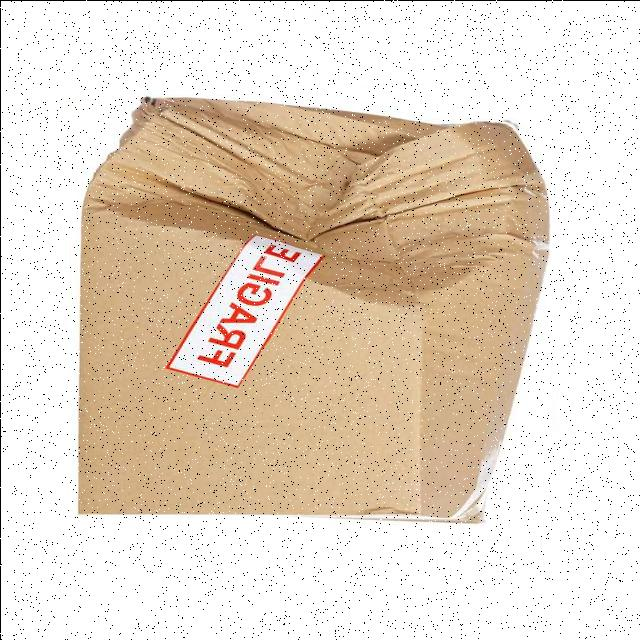defect: (71, 88, 550, 525)
